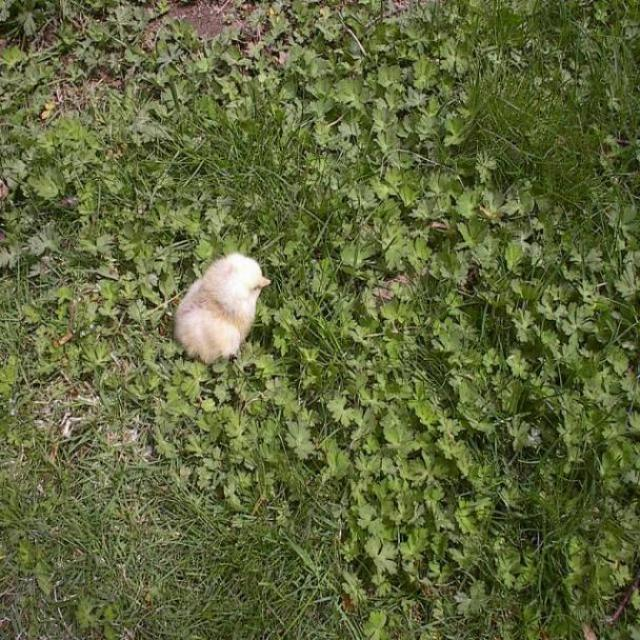Chicken: (176, 248, 268, 381)
